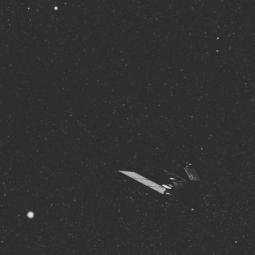earth_observation_sat_1: (117, 144, 221, 219)
